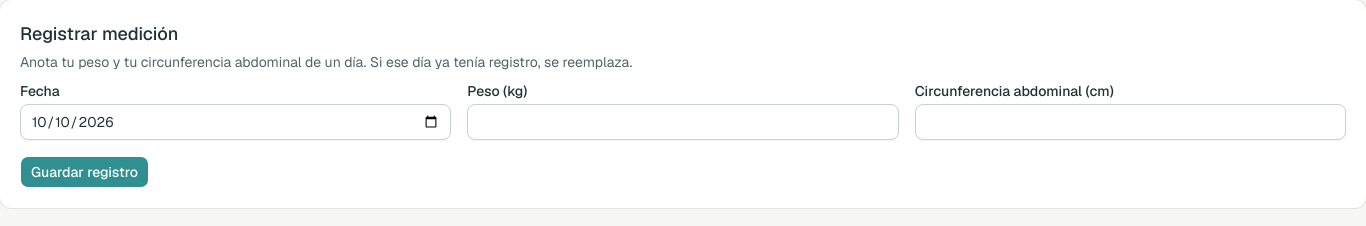
MeasurementForm › keeps what was typed and offers to retry when the save fails
In the field labelled "Peso (kg)": (683, 122) [467, 104, 899, 140], type "80,1"
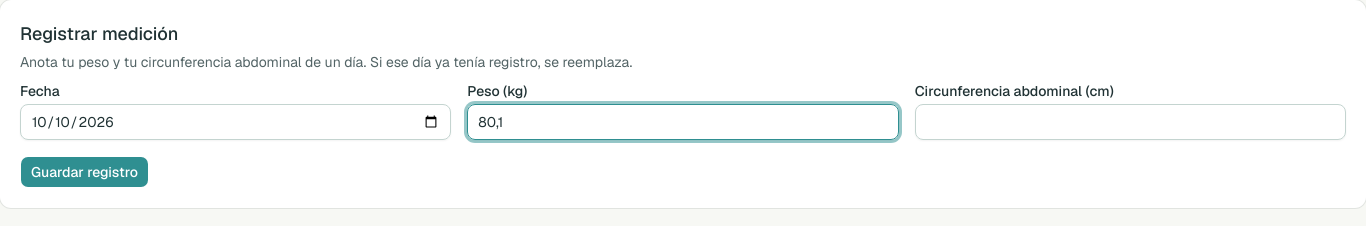
In the field labelled "Circunferencia abdominal (cm)": (1130, 122) [915, 104, 1346, 140], type "94,8"
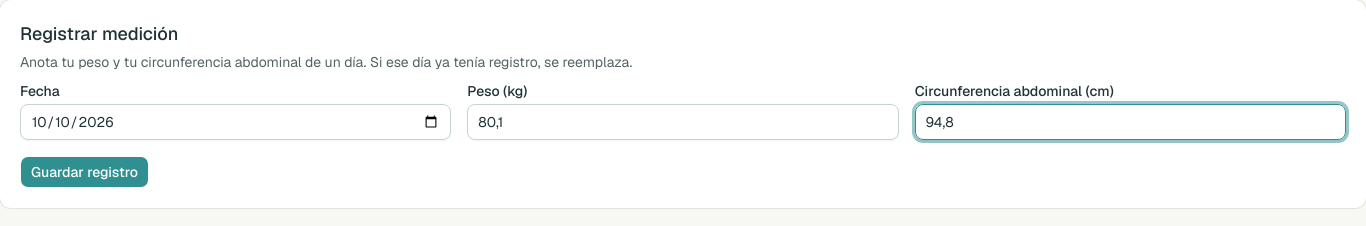
Click the button "Guardar registro": (84, 172) [20, 156, 149, 188]
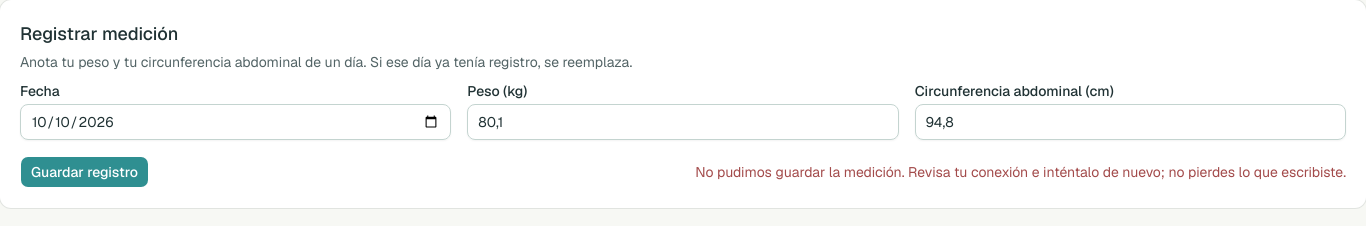
Expected: the text "No pudimos guardar la medición. Revisa tu conexión e inténtalo de nuevo; no pierdes lo que escribiste." is shown, [695, 163, 1346, 181]
